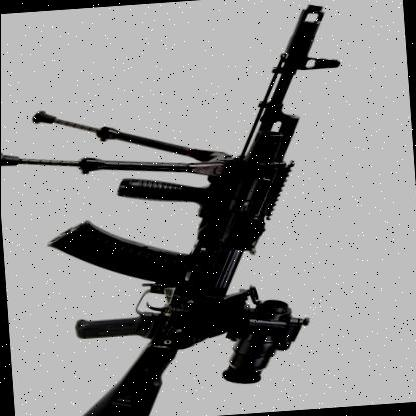rifle: (34, 0, 384, 416)
